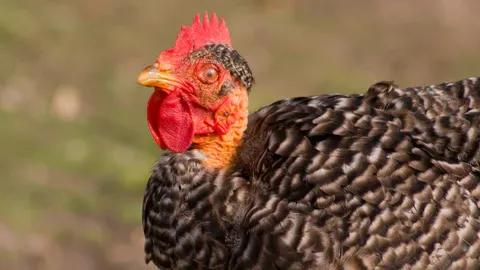AbNormal: (112, 12, 470, 266)
